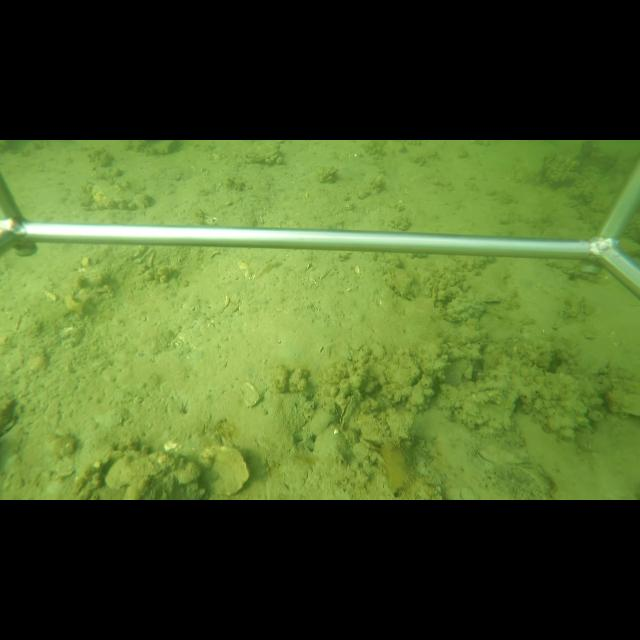Oyster-Closed: (107, 450, 182, 492), (203, 445, 251, 497), (91, 178, 152, 211), (384, 267, 412, 299), (338, 390, 360, 430)
